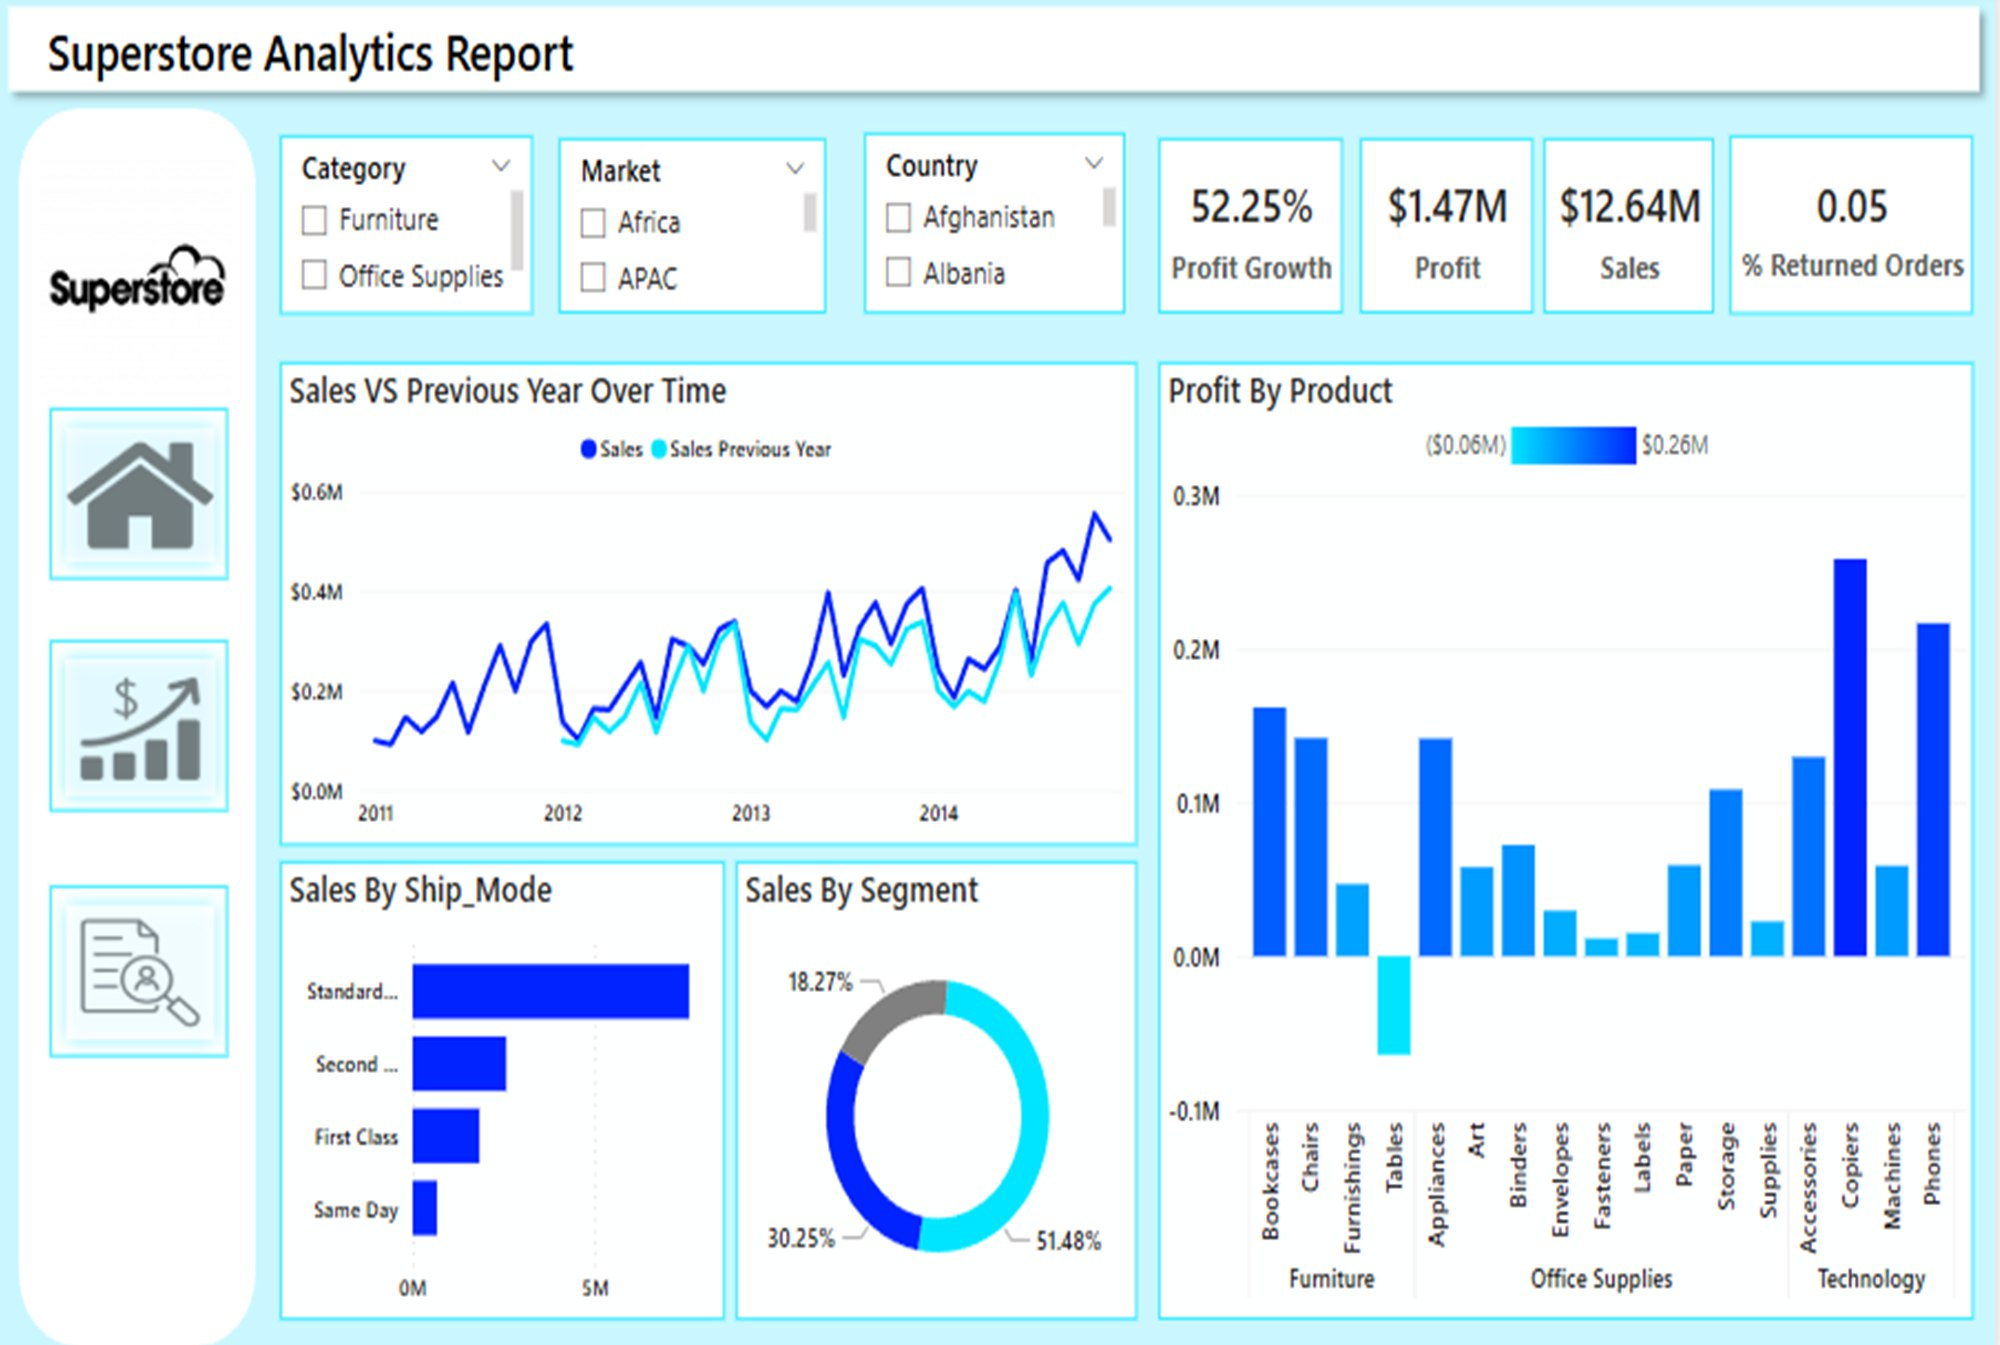

The dashboard page shown, as its layout file describes it:
{"tool":"powerbi","page":{"name":"Home","canvas":[1280,720],"ordinal":0},"visuals":[{"type":"card","fields":{"Values":["Key Measures.Total Sales"]},"box":[992.1,78,109.1,92.1],"z":0},{"type":"card","fields":{"Values":["Key Measures.Profit"]},"box":[874.5,78,110.6,92.1],"z":1000},{"type":"card","fields":{"Values":["Key Measures.% Returned Orders"]},"box":[1111.2,76.5,155.9,93.5],"z":2000},{"type":"lineChart","title":"Sales VS  Previous Year Over Time","fields":{"Y":["Key Measures.Sales","Key Measures.Sales Previous Year"],"Category":["Date Table.Start of Month"]},"box":[182.8,195.6,548.5,253.7],"z":3000},{"type":"columnChart","title":"Profit By Product","fields":{"Category":["Orders.category","Orders.sub_category"],"Y":["Sum(Orders.profit)"]},"box":[745.5,195.6,521.6,503.1],"z":4000},{"type":"shape","box":[15.6,62.4,151.7,650.6],"z":5000},{"type":"card","fields":{"Values":["Key Measures.Profit Change"]},"box":[745.5,78,117.6,92.1],"z":6000},{"type":"barChart","title":"Sales By Ship_Mode","fields":{"Category":["Orders.ship_mode"],"Y":["Sum(Orders.sales)"]},"box":[182.8,457.8,284.9,240.9],"z":7000},{"type":"donutChart","title":"Sales By Segment","fields":{"Y":["Key Measures.Sales"],"Category":["Orders.segment"]},"box":[474.8,457.8,256.5,240.9],"z":8000},{"type":"slicer","fields":{"Values":["Orders.category"]},"box":[182.8,76.5,161.6,93.5],"z":9000},{"type":"slicer","fields":{"Values":["Orders.market"]},"box":[361.4,78,171.5,92.1],"z":10000},{"type":"slicer","fields":{"Values":["Orders.country"]},"box":[557,75.1,167.2,95],"z":11000},{"type":"shape","box":[0,0,1279.8,62.4],"z":12000},{"type":"image","box":[22.9,84.3,137.1,135.7],"z":13000},{"type":"actionButton","box":[35.7,220,114.3,90],"z":14000},{"type":"actionButton","box":[35.7,470,114.3,90],"z":17000},{"type":"actionButton","box":[35.7,341.4,114.3,90],"z":18000}]}

Visuals, with their boxes on the page's 1280x720 design canvas (x1, y1, x2, y2). These are canvas units, not pixel positions in the 2000x1345 screenshot, which may show the page scaled, cropped or inside an application window:
card - Key Measures.Total Sales: box=[992, 78, 1101, 170]
card - Key Measures.Profit: box=[874, 78, 985, 170]
card - Key Measures.% Returned Orders: box=[1111, 76, 1267, 170]
"Sales VS  Previous Year Over Time" lineChart: box=[183, 196, 731, 449]
"Profit By Product" columnChart: box=[746, 196, 1267, 699]
shape: box=[16, 62, 167, 713]
card - Key Measures.Profit Change: box=[746, 78, 863, 170]
"Sales By Ship_Mode" barChart: box=[183, 458, 468, 699]
"Sales By Segment" donutChart: box=[475, 458, 731, 699]
slicer - Orders.category: box=[183, 76, 344, 170]
slicer - Orders.market: box=[361, 78, 533, 170]
slicer - Orders.country: box=[557, 75, 724, 170]
shape: box=[0, 0, 1280, 62]
image: box=[23, 84, 160, 220]
actionButton: box=[36, 220, 150, 310]
actionButton: box=[36, 470, 150, 560]
actionButton: box=[36, 341, 150, 431]
